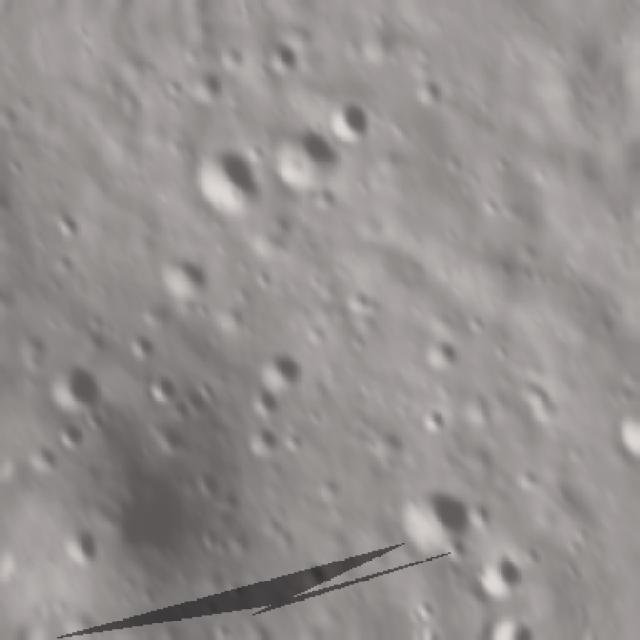crater: (90, 450, 227, 595), (383, 480, 488, 572), (182, 130, 268, 224), (261, 116, 345, 199), (41, 353, 110, 421), (154, 248, 223, 312), (465, 547, 537, 608), (251, 331, 312, 398), (318, 88, 380, 150), (413, 328, 470, 381), (60, 521, 109, 573), (607, 396, 640, 470), (119, 321, 168, 367), (405, 70, 452, 116), (21, 435, 68, 479), (142, 366, 185, 414), (258, 37, 305, 78), (294, 551, 337, 594), (243, 419, 285, 463), (244, 378, 284, 424), (51, 414, 95, 454), (344, 282, 384, 326), (188, 64, 230, 105), (88, 620, 168, 640), (417, 399, 455, 441), (54, 205, 92, 247), (214, 38, 249, 74), (509, 463, 546, 494), (210, 614, 239, 640)
